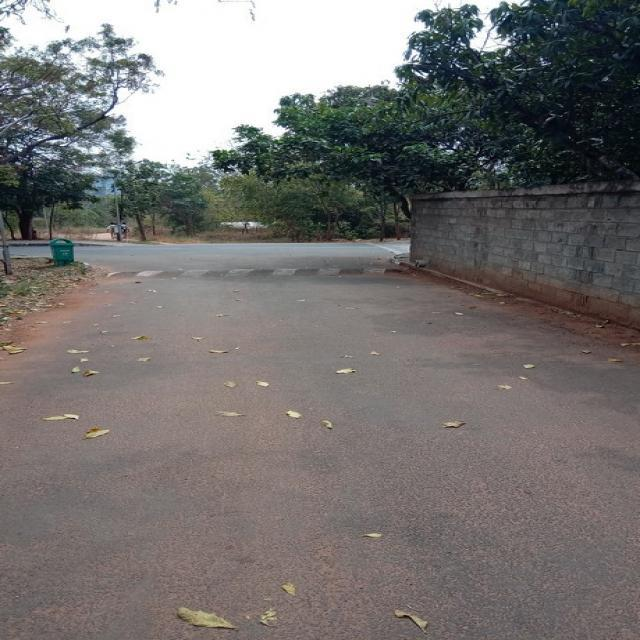Marked Bump: (115, 248, 383, 287)
